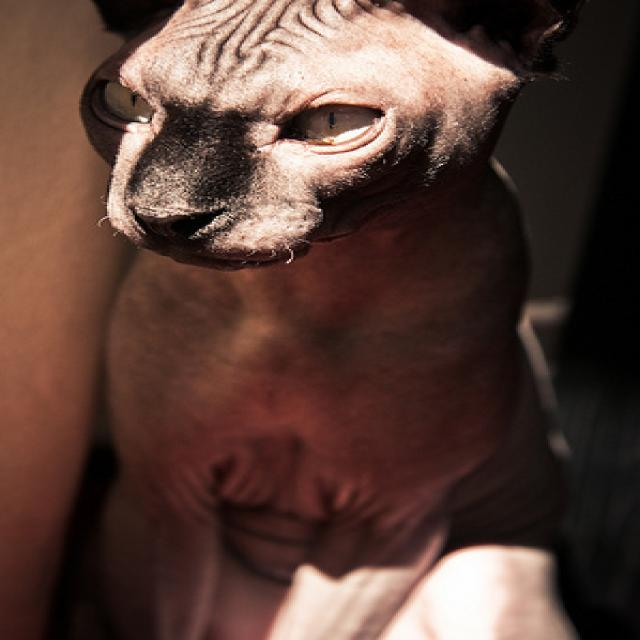Sphynx: (70, 0, 602, 640)
